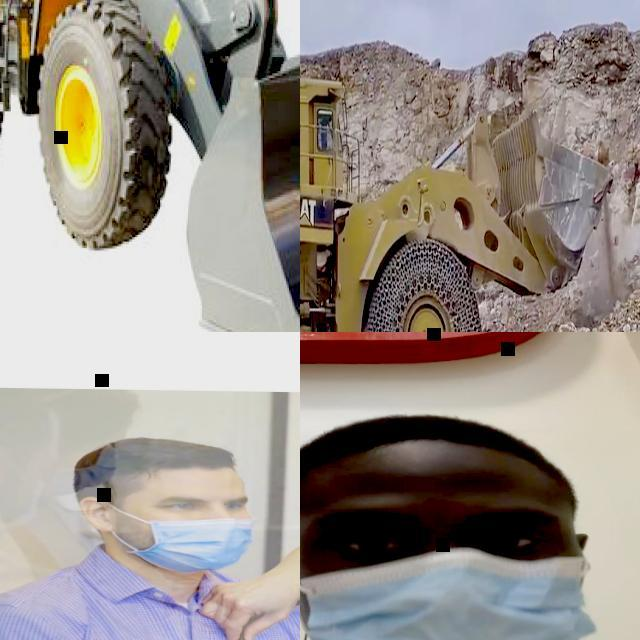Robbery: (305, 397, 608, 640), (0, 396, 299, 640)
